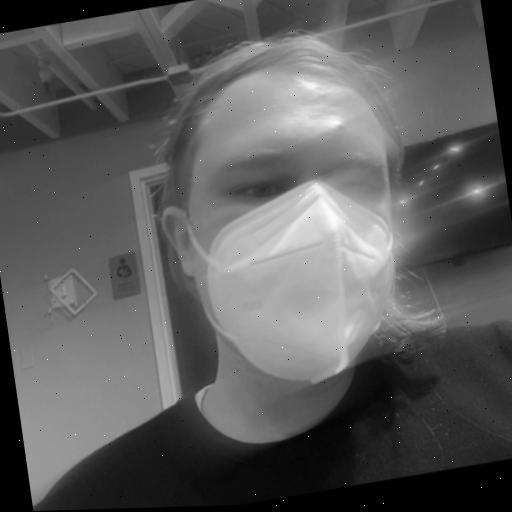mask: (94, 13, 454, 471)
